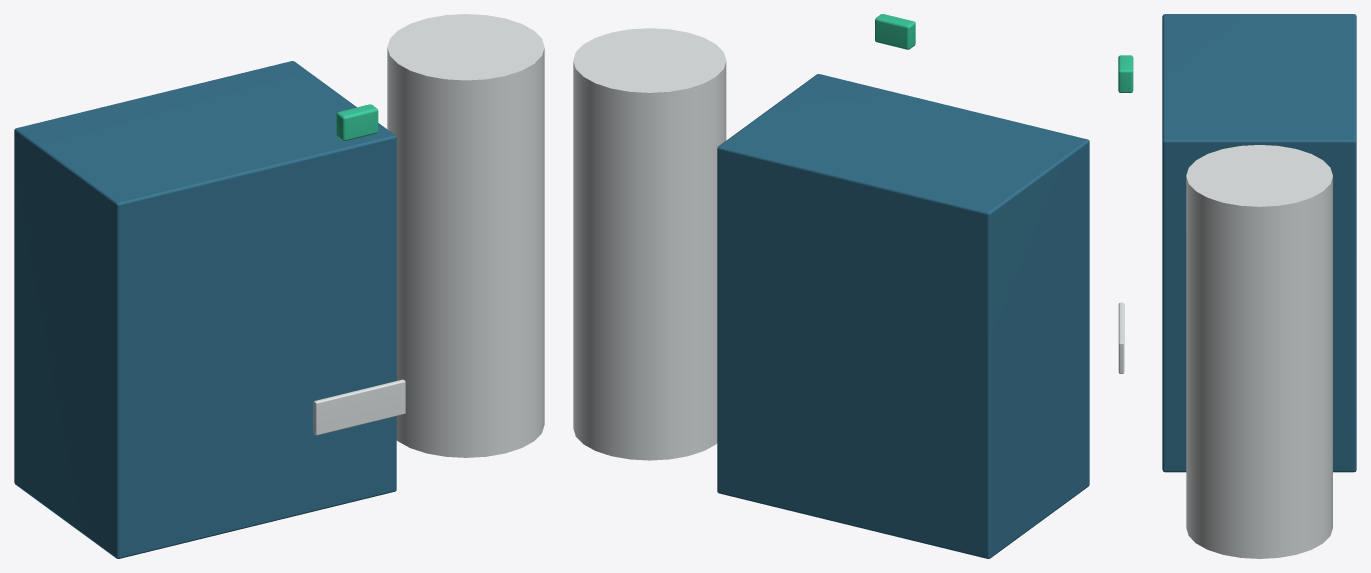
The model's file is Equipment_CAU.fbx.
3 renders of one model, left to right at view 1: azimuth 30°, elevation 25°; view 2: azimuth 150°, elevation 25°; view 3: azimuth 270°, elevation 25°, orthographic. The views are drawn at different scales.
Parts seen in each view (by area): view 1: Compressor, Receiver, BlankNameplate_CAU, StatusLens_CAU; view 2: Compressor, Receiver, StatusLens_CAU; view 3: Receiver, Compressor, StatusLens_CAU, BlankNameplate_CAU.
Boxes of the visible parts, x1,y1,x2,y2 form: Compressor: (14, 61, 396, 558); Receiver: (387, 14, 544, 457); BlankNameplate_CAU: (313, 379, 405, 435); StatusLens_CAU: (336, 104, 378, 140); Compressor: (717, 74, 1089, 558); Receiver: (573, 28, 726, 460); StatusLens_CAU: (875, 14, 915, 49); Receiver: (1186, 145, 1332, 558); Compressor: (1162, 14, 1356, 472); StatusLens_CAU: (1118, 55, 1133, 92); BlankNameplate_CAU: (1118, 302, 1124, 373).
Size of the model in its own units: 2.34 by 1.96 by 1.1.
